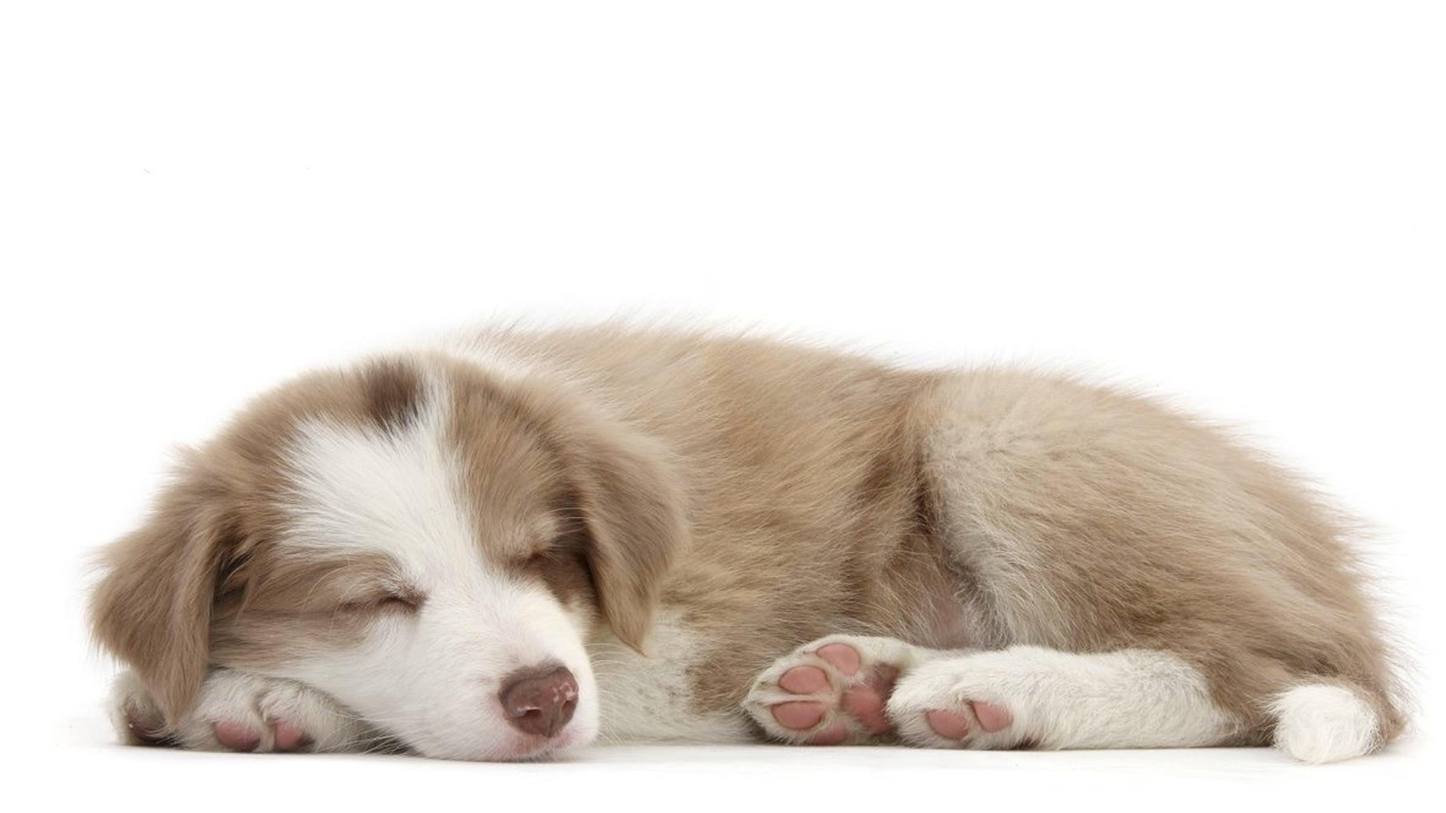puppy-dog: (69, 296, 1427, 772)
